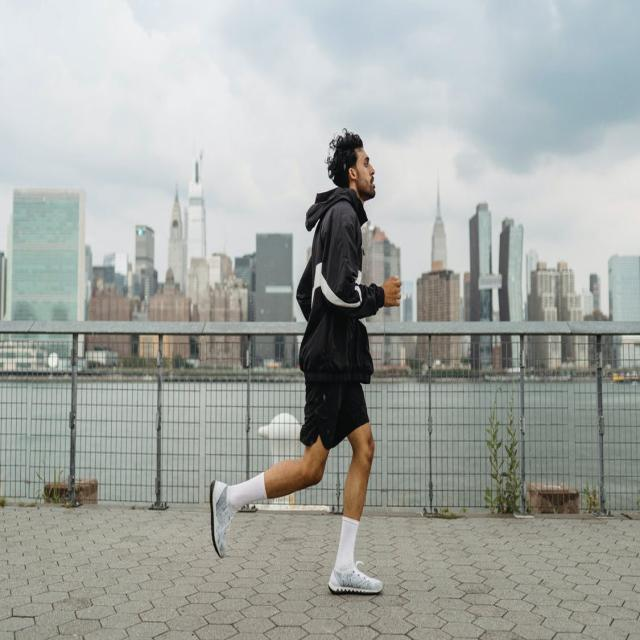running: (206, 126, 407, 599)
